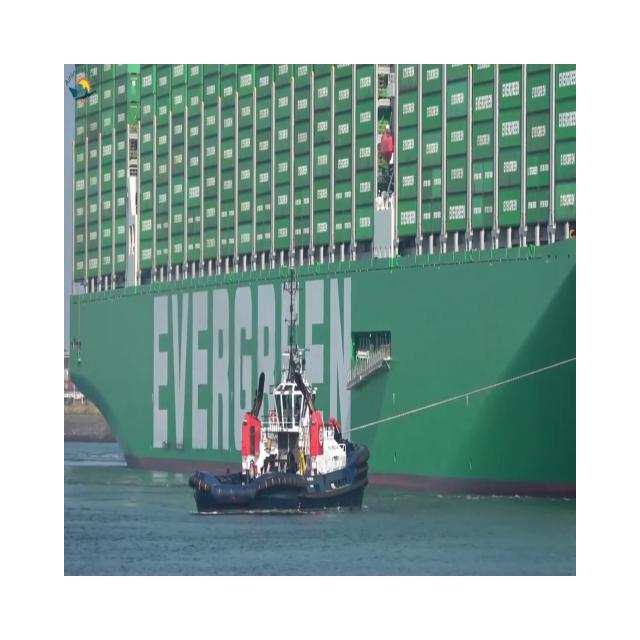OCR: (137, 256, 362, 460)
